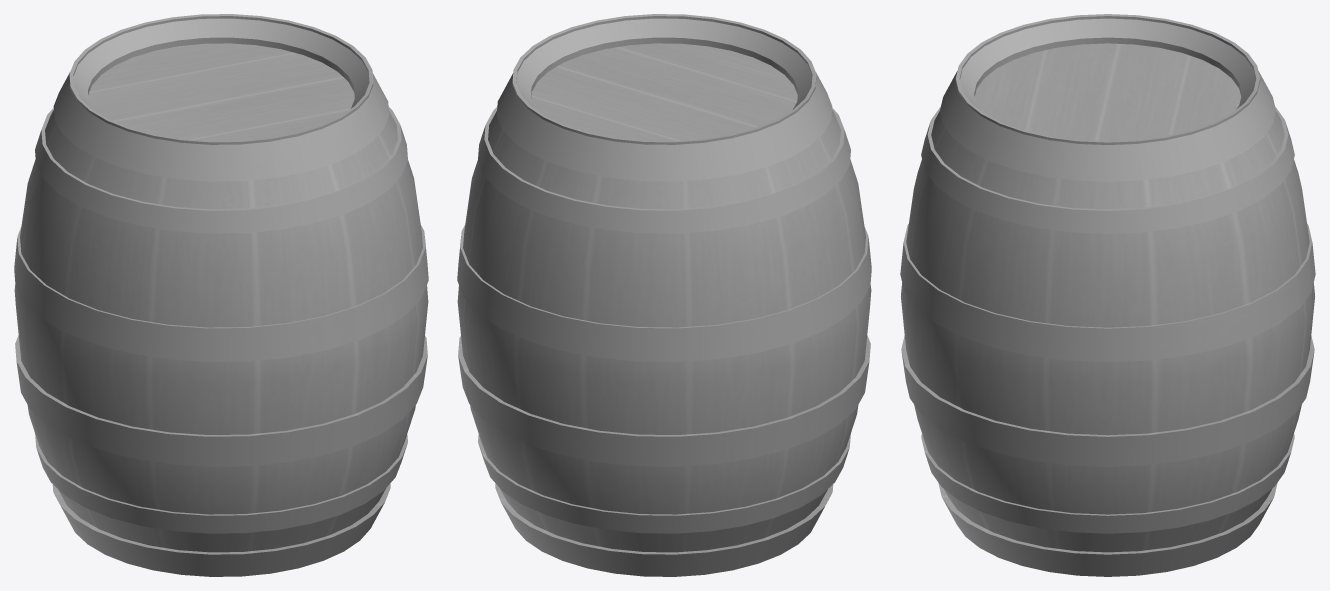
The model's file is sud1.fbx.
The picture shows the model from 3 angles, left to right: view 1: azimuth 30°, elevation 25°; view 2: azimuth 150°, elevation 25°; view 3: azimuth 270°, elevation 25°; orthographic projection.
Visible parts, largest first — view 1: Cylinder; view 2: Cylinder; view 3: Cylinder.
Part boxes in pixels (box(x1,y1,x2,y2)): Cylinder: box(14, 14, 428, 576); Cylinder: box(457, 14, 871, 576); Cylinder: box(900, 14, 1315, 576).
Bounding box in the file's own units: 384 × 443 × 384.
